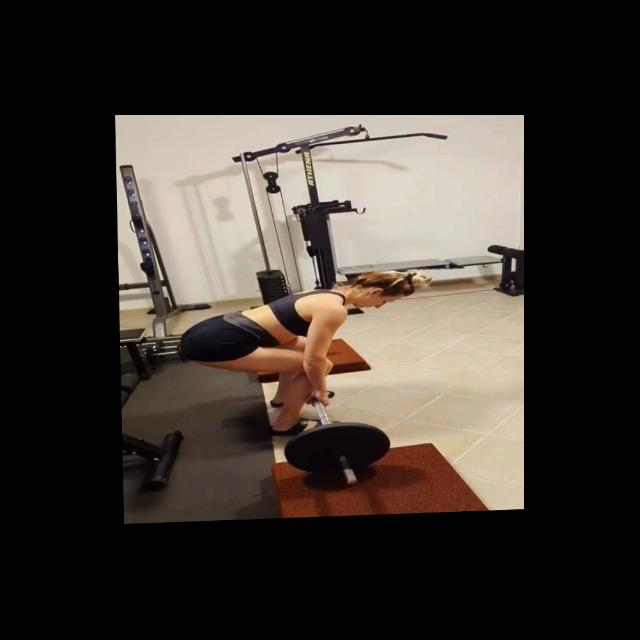barbell: (280, 421, 392, 493)
